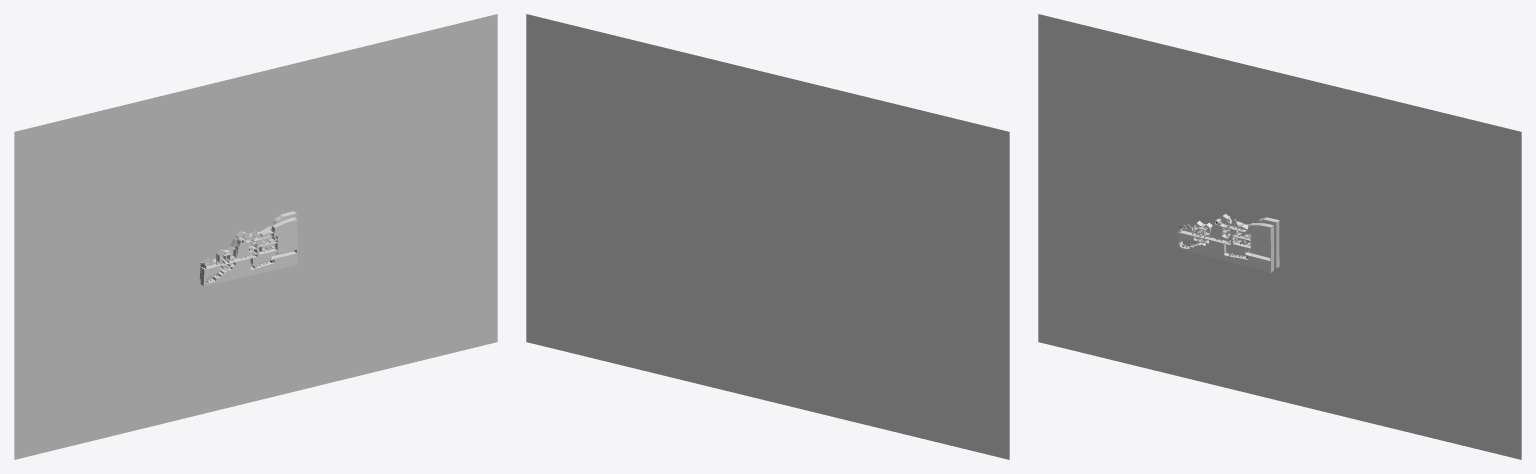
The model's file is intro_level_01.FBX.
The picture shows the model from 3 angles, left to right: view 1: azimuth 30°, elevation 25°; view 2: azimuth 150°, elevation 25°; view 3: azimuth 330°, elevation 25°; orthographic projection.
Parts seen in each view (by area): view 1: Plane003, Line001, Line010; view 2: Plane003; view 3: Plane003, Line001, Line010.
Boxes of the visible parts, x1,y1,x2,y2 form: Plane003: (14,14,497,459); Line001: (200,217,297,286); Line010: (199,211,296,279); Plane003: (526,14,1009,459); Plane003: (1038,14,1521,459); Line001: (1177,223,1273,272); Line010: (1184,214,1279,268).
Bounding box in the file's own units: 15648 × 10154 × 1421.
11 materials, 3 textured.
